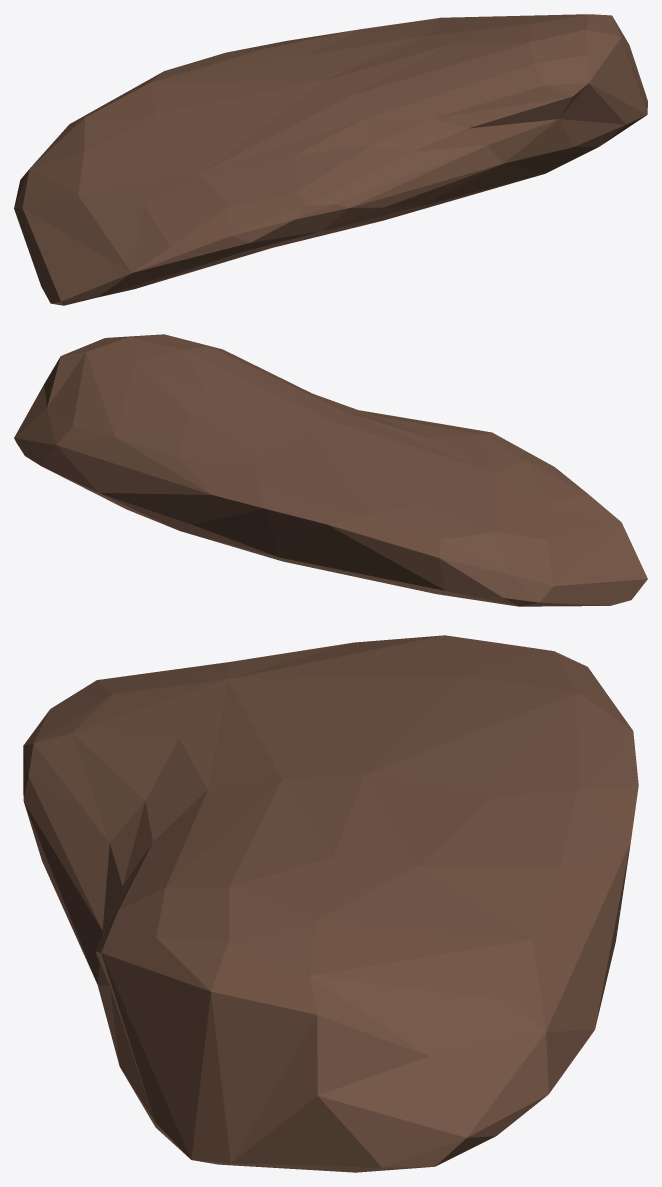
Rendered from flat_rock2.glb.
The picture shows the model from 3 angles, top to bottom: view 1: azimuth 30°, elevation 25°; view 2: azimuth 150°, elevation 25°; view 3: azimuth 270°, elevation 25°; orthographic projection. The views are drawn at different scales.
Parts seen in each view (by area): view 1: Flat_rock2; view 2: Flat_rock2; view 3: Flat_rock2.
Part boxes in pixels (<box>): Flat_rock2: <box>14,14,647,305</box>; Flat_rock2: <box>14,334,647,606</box>; Flat_rock2: <box>23,635,638,1172</box>.
Bounding box in the file's own units: 26.01 × 6.02 × 12.05.
